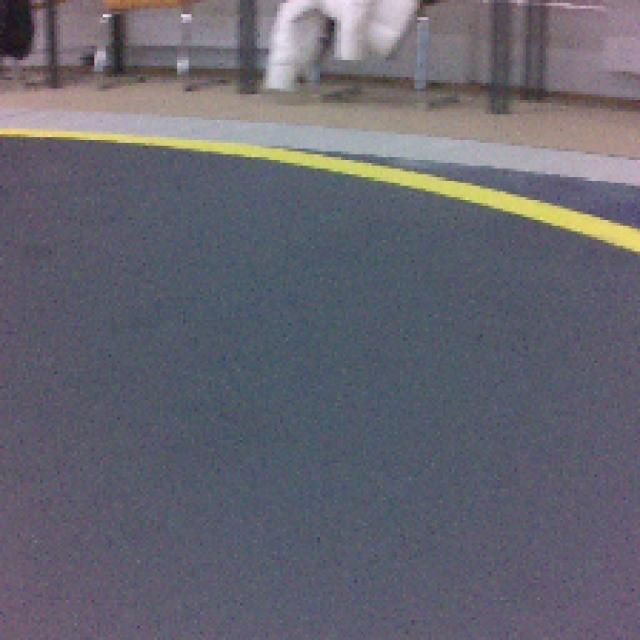Road: (0, 358, 639, 640)
